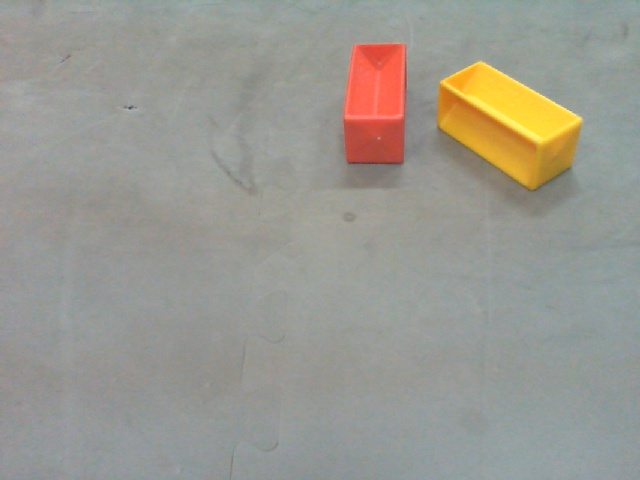RedSample: (343, 37, 408, 167)
YellowSample: (441, 63, 578, 188)
